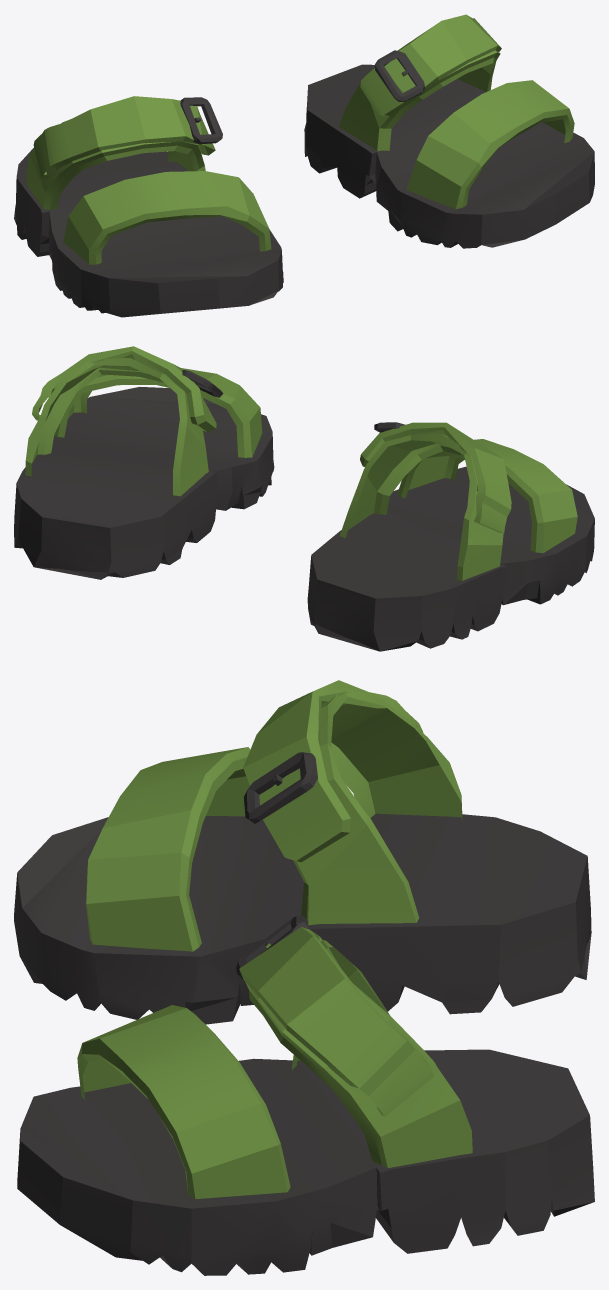
Rendered from shoe5.fbx.
The picture shows the model from 3 angles, top to bottom: view 1: azimuth 30°, elevation 25°; view 2: azimuth 150°, elevation 25°; view 3: azimuth 270°, elevation 25°; orthographic projection. The views are drawn at different scales.
Visible parts, largest first — view 1: sandal2; view 2: sandal2; view 3: sandal2.
Part boxes in pixels (x1,y1,x2,y2): sandal2: [14, 14, 594, 317]; sandal2: [14, 346, 594, 651]; sandal2: [14, 680, 594, 1275].
Size of the model in its own units: 154 by 47.37 by 93.52.
